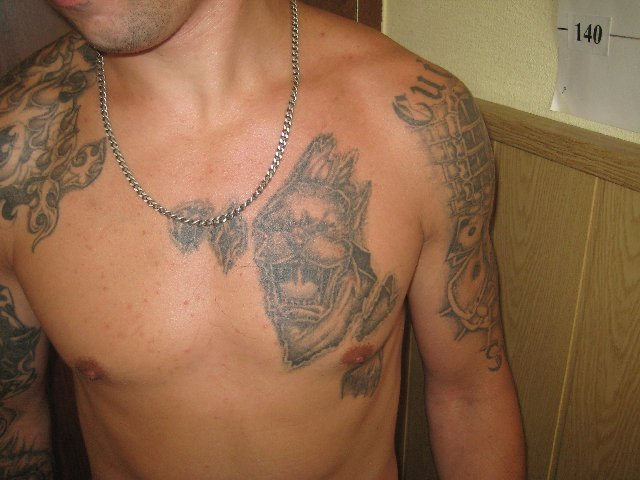tatu5_tigr: (260, 183, 360, 325)
